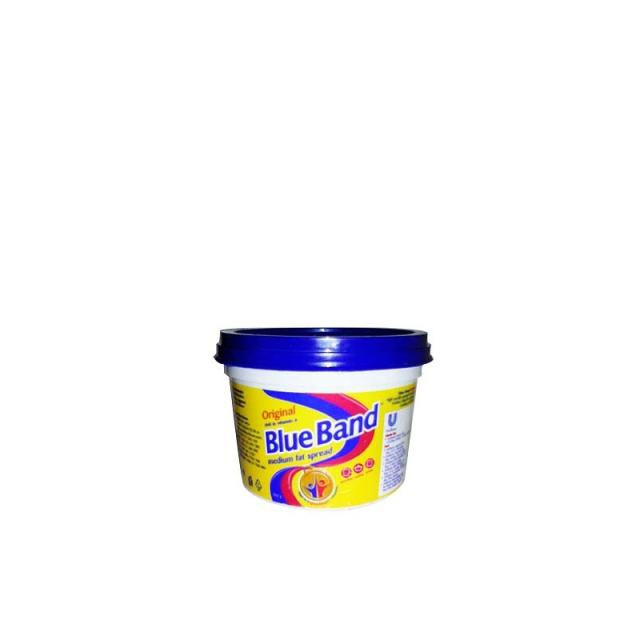butter: (213, 324, 433, 510)
